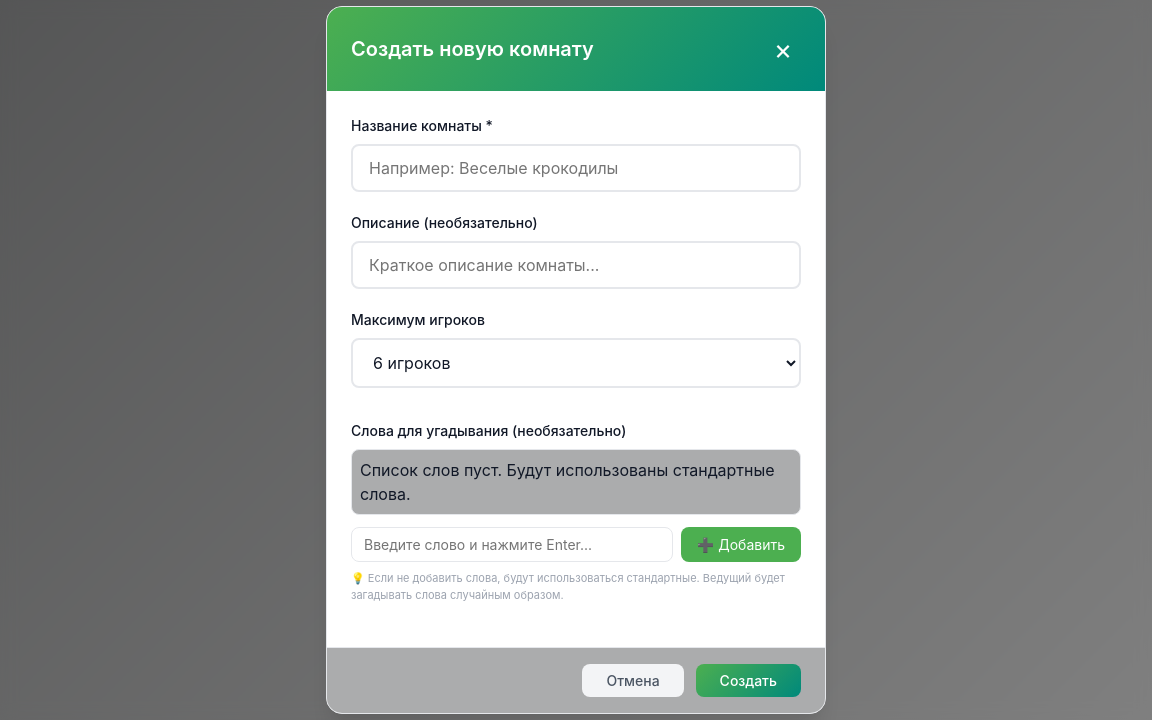
Test: CreateRoomModal › validates room name - too short
This screenshot has width=1152, height=720.
Type "ab" into the field labelled "Название комнаты *" at (576, 168), box x1=351 y1=144 x2=801 y2=192
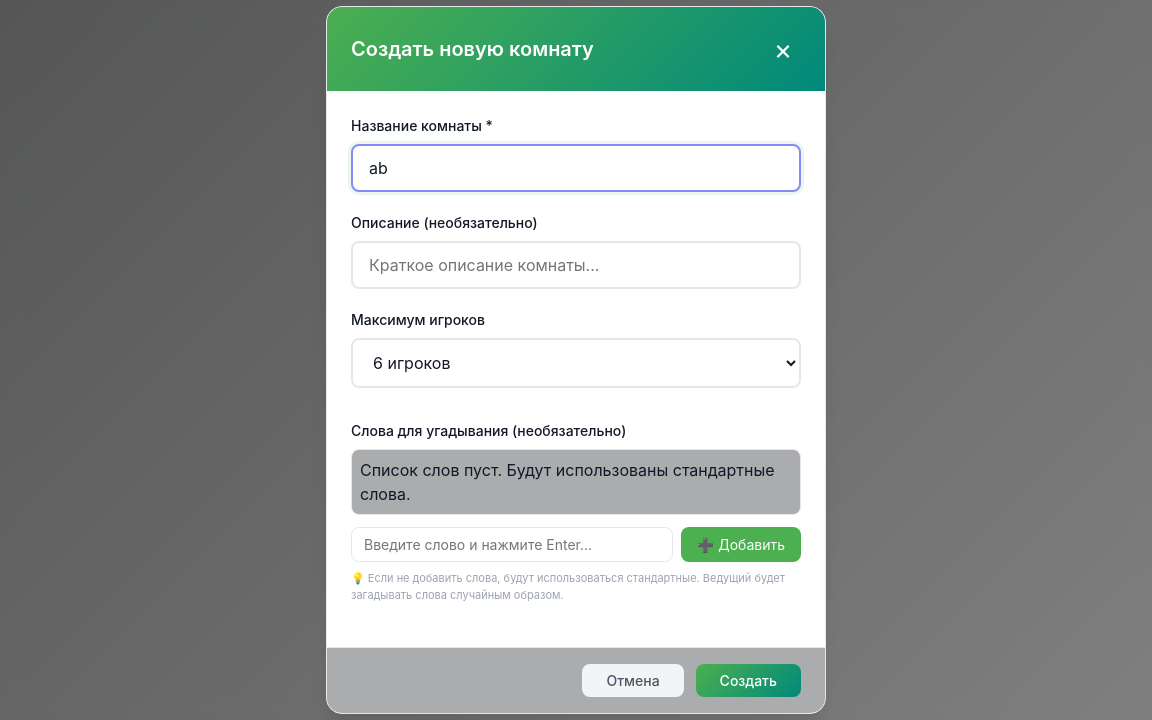
Click the button "Создать" at (748, 680), box x1=696 y1=664 x2=801 y2=697
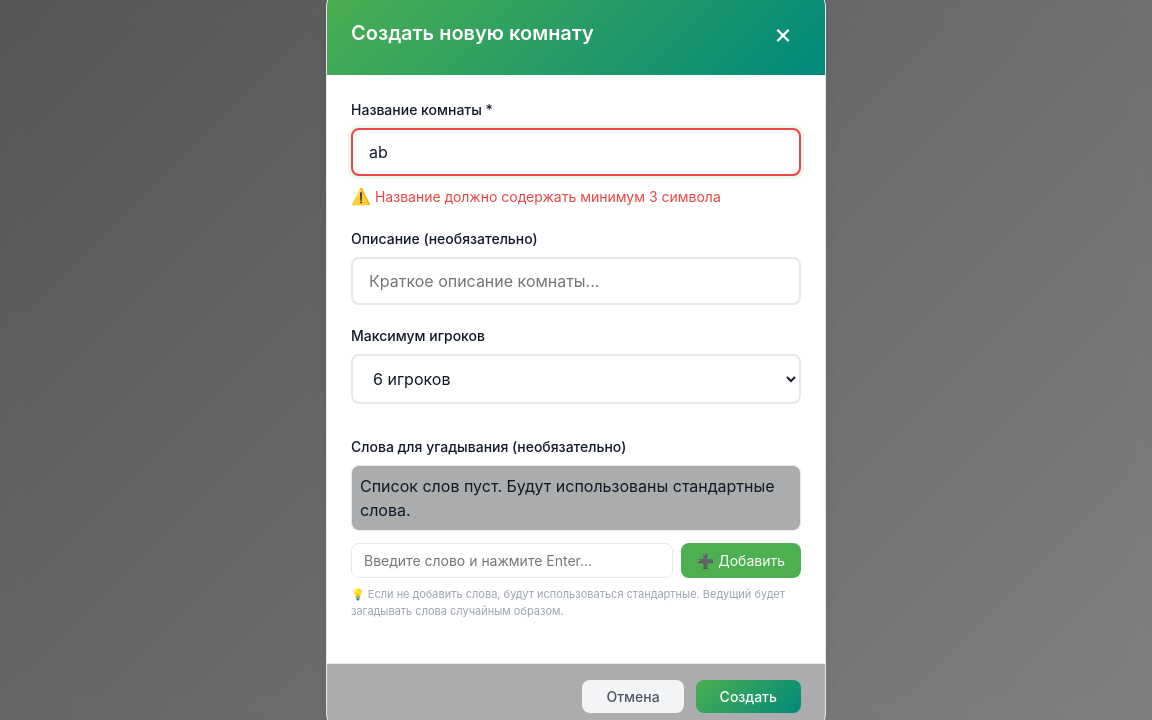
Expected: the text "Название должно содержать минимум 3 символа" is shown, x1=375 y1=188 x2=721 y2=204
